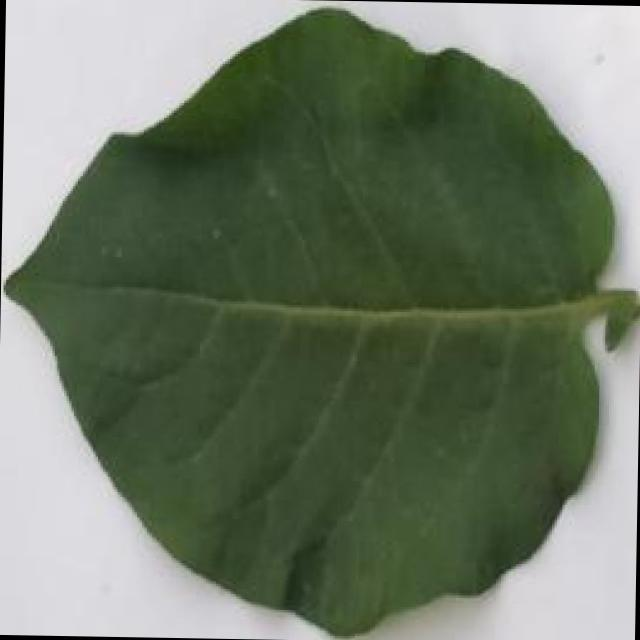Potato_Healthy: (0, 0, 633, 634), (406, 4, 614, 80)
